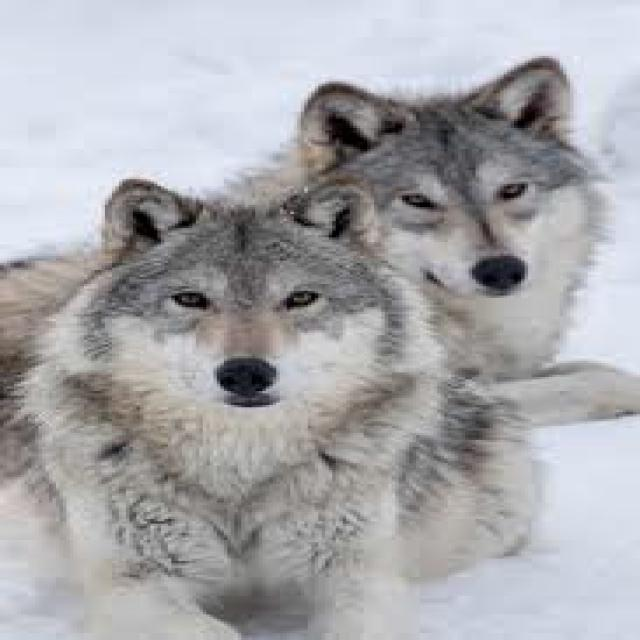wolf: (231, 58, 637, 424), (0, 263, 94, 368)
